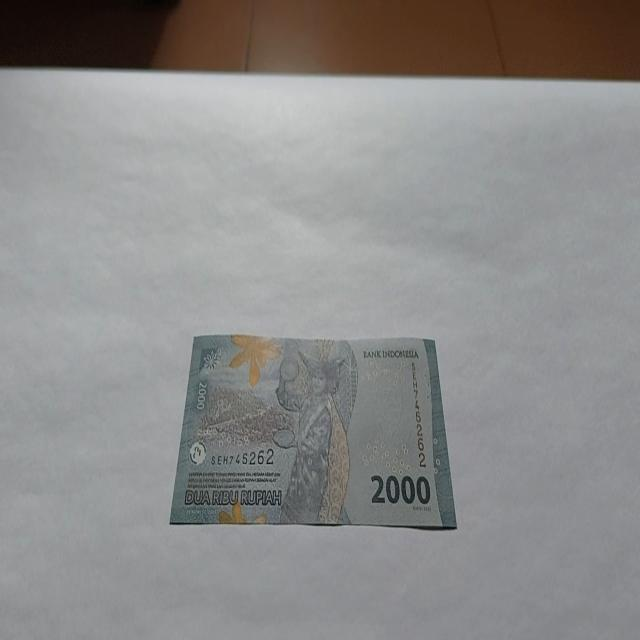dua ribu rupiah: (169, 332, 457, 530)
